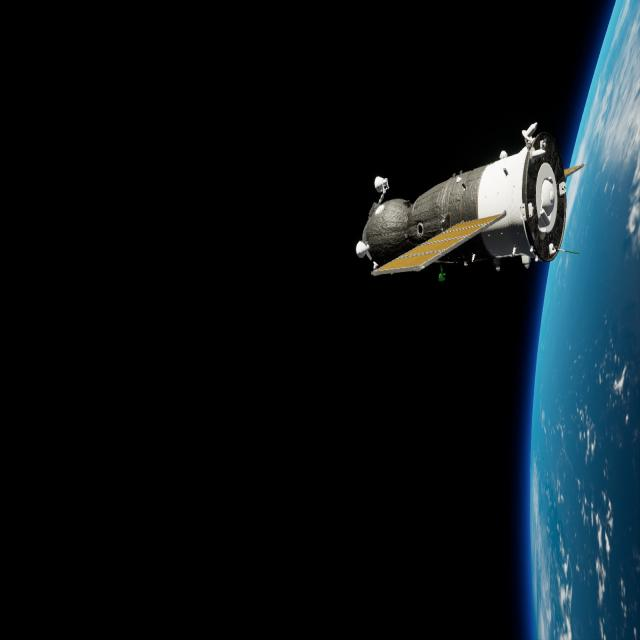Satellites revolving around earth: (354, 119, 586, 283)
